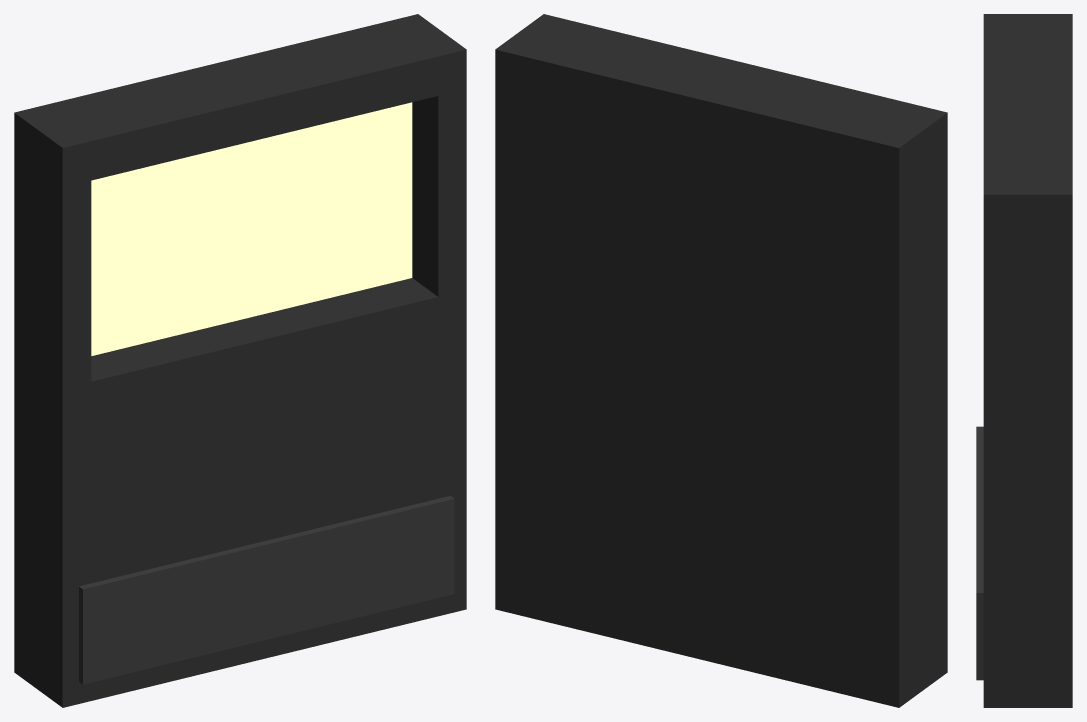
Rendered from panel.fbx.
3 renders of one model, left to right at view 1: azimuth 30°, elevation 25°; view 2: azimuth 150°, elevation 25°; view 3: azimuth 270°, elevation 25°, orthographic. The views are drawn at different scales.
Parts seen in each view (by area): view 1: Cube.004; view 2: Cube.004; view 3: Cube.004.
Part boxes in pixels (<box>): Cube.004: <box>14,14,466,707</box>; Cube.004: <box>495,14,947,707</box>; Cube.004: <box>976,14,1072,707</box>.
Bounding box in the file's own units: 106 × 140 × 23.92.
